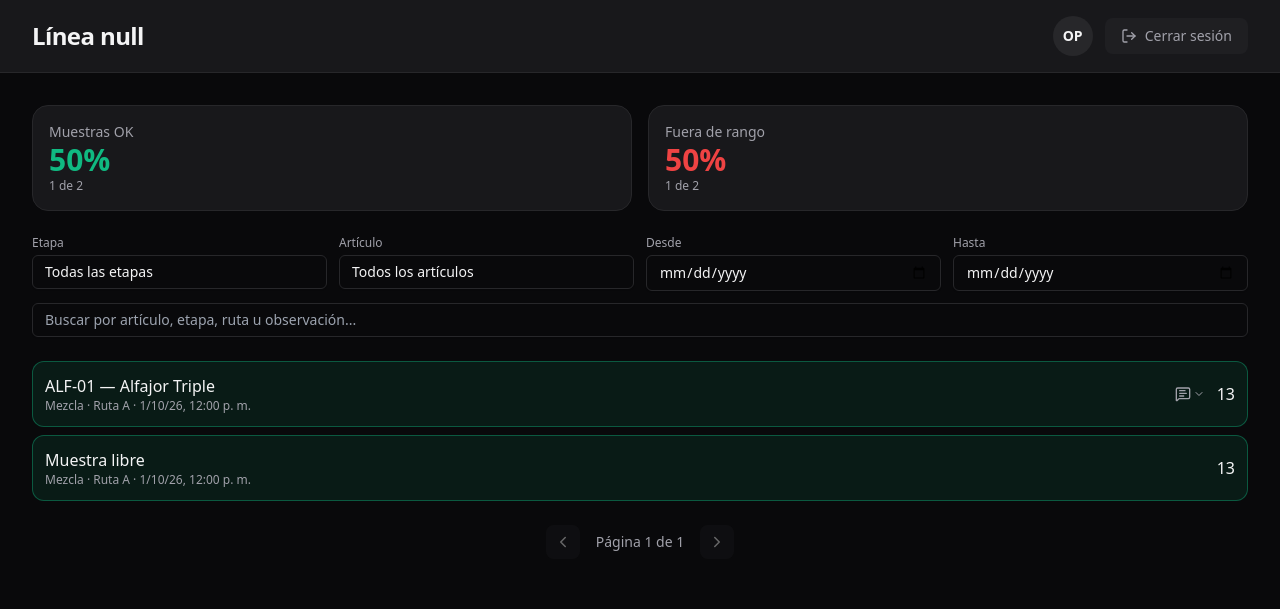
Test: HistorialPage › hides the observación behind a clickable card that toggles it inline, only when the muestra has one
Expected: the text "Masa pegajosa" is not shown
Click the button that starts with "ALF-01 — Alfajor Triple": click(130, 386) x1=33 y1=362 x2=1247 y2=426
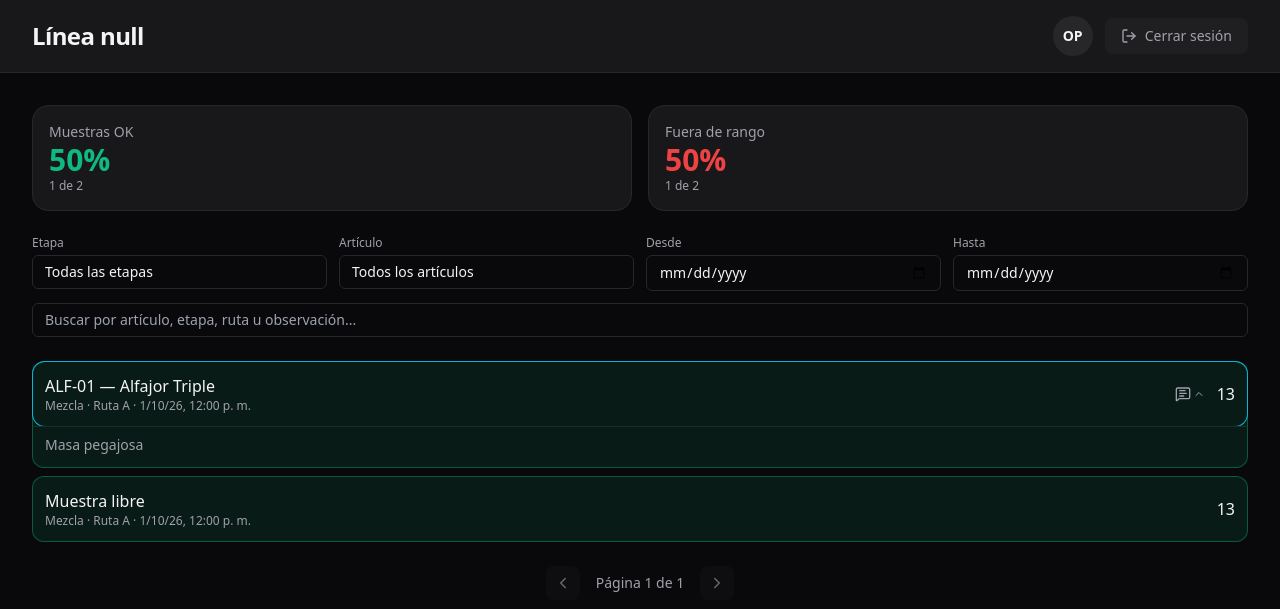
Expected: the button that starts with "ALF-01 — Alfajor Triple" is expanded
Expected: the text "Masa pegajosa" is shown, x1=33 y1=426 x2=1247 y2=467
Click the button that starts with "ALF-01 — Alfajor Triple": click(130, 386) x1=33 y1=362 x2=1247 y2=426
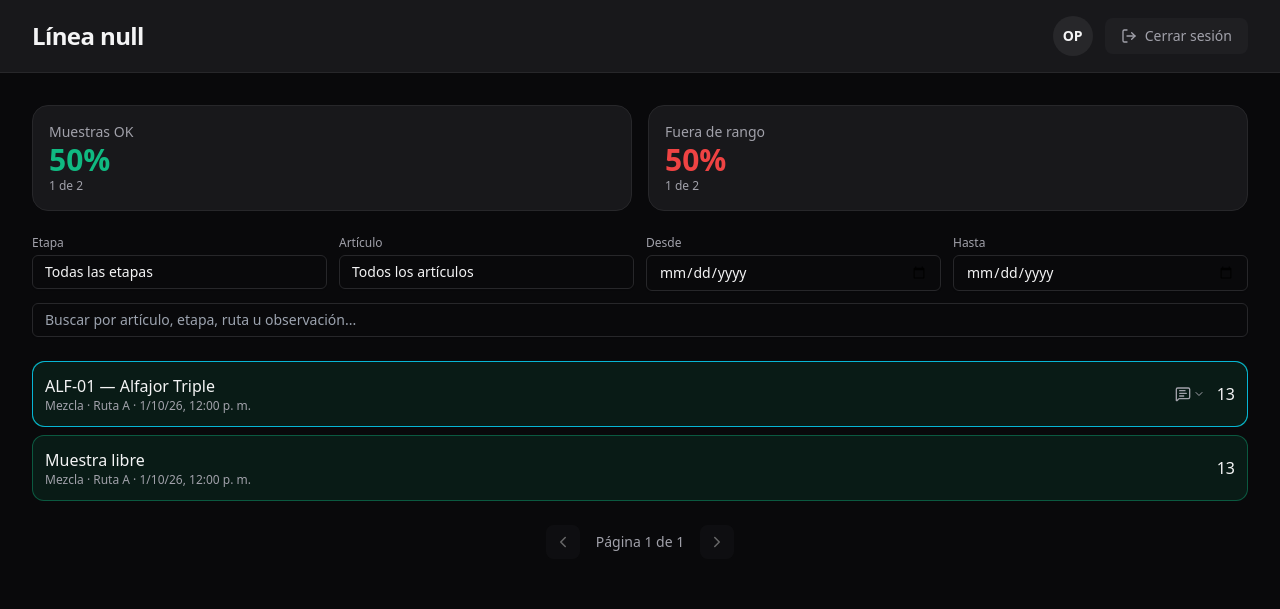
Expected: the text "Masa pegajosa" is gone
